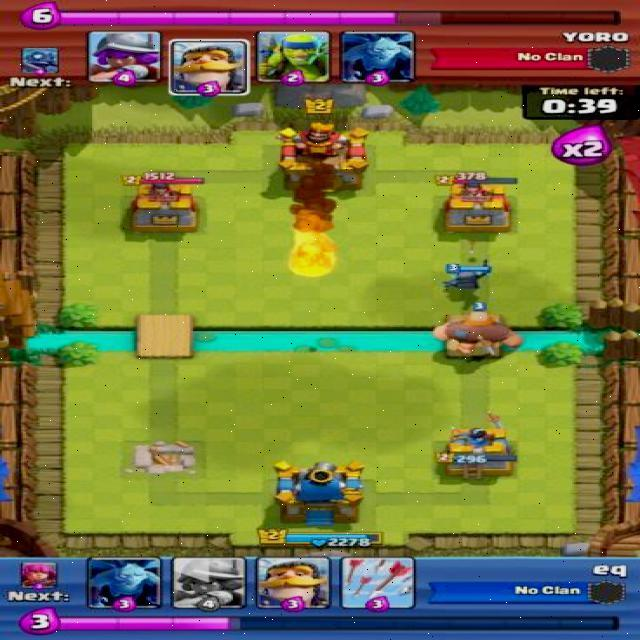EFireball: (277, 180, 346, 281)
EKingTower: (274, 126, 371, 188)
EnemyPrincessTower: (129, 169, 207, 236), (443, 174, 513, 232)
OGiant: (427, 301, 529, 355)
OMiniPekka: (442, 264, 499, 298)
OwnKingTower: (273, 459, 363, 528)
OwnPrincessTower: (443, 424, 511, 479)
TowerDown: (116, 438, 207, 479)
